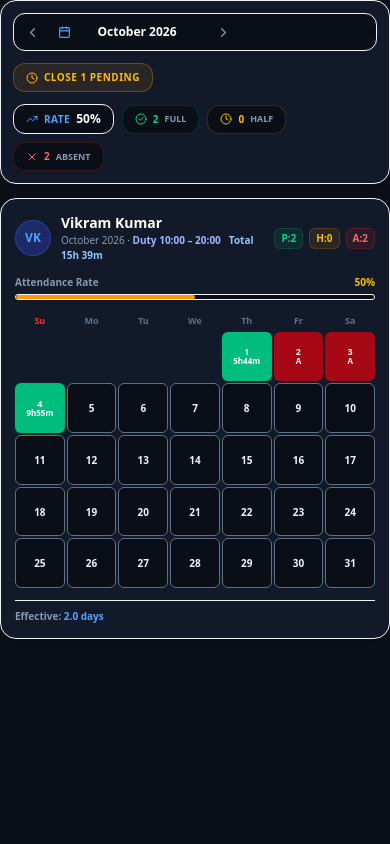
it: MonthlyReport compact cells + detail tooltip › pinned tooltip Esc se band hota hai
Click the button named "1 Present" at (247, 356), box [222, 332, 272, 381]
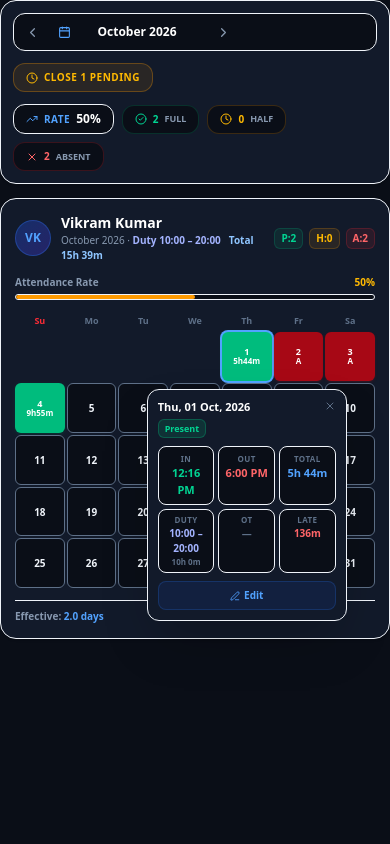
Now the element with test id "day-tip" is shown, box [147, 389, 347, 622]
Press Escape
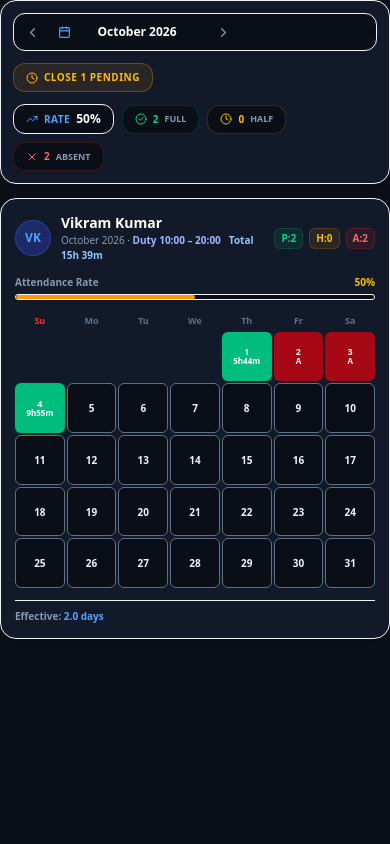
Now the element with test id "day-tip" is gone
